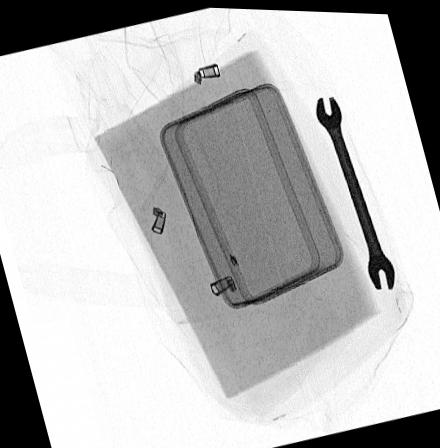Wrench: (316, 91, 395, 286)
